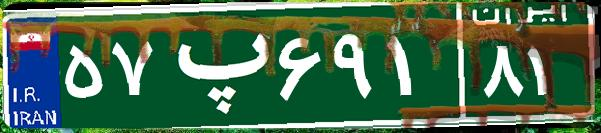1: (385, 28, 445, 110), (525, 38, 570, 115)
5: (57, 26, 110, 107)
6: (273, 28, 330, 110)
7: (110, 28, 158, 105)
8: (475, 38, 525, 113)
9: (330, 28, 385, 110)
پ: (158, 15, 273, 115)
